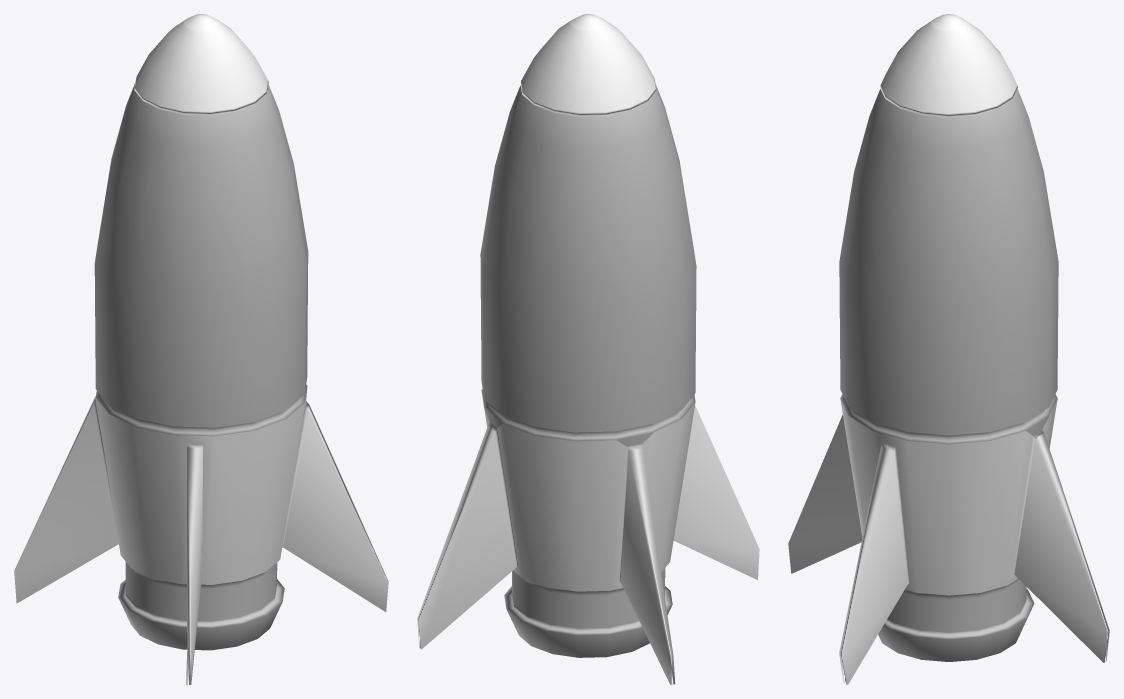
The model's file is rocket1.fbx.
The picture shows the model from 3 angles, left to right: view 1: azimuth 30°, elevation 25°; view 2: azimuth 150°, elevation 25°; view 3: azimuth 270°, elevation 25°; orthographic projection.
Visible parts, largest first — view 1: rocket; view 2: rocket; view 3: rocket.
Part boxes in pixels (box(x1,y1,x2,y2)): rocket: box(14, 14, 388, 684); rocket: box(417, 14, 759, 684); rocket: box(788, 14, 1109, 684).
Bounding box in the file's own units: 1.35 × 2.88 × 1.36.
